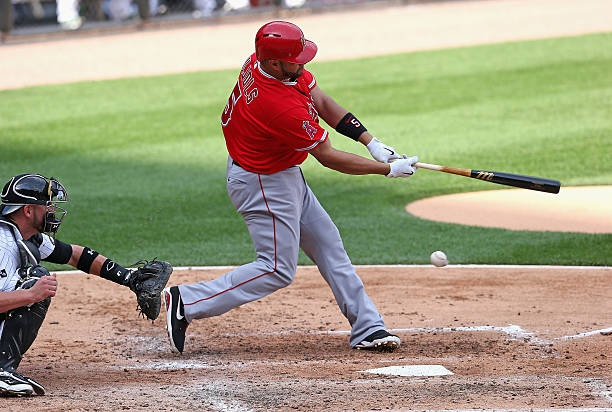bita: (406, 157, 560, 195)
